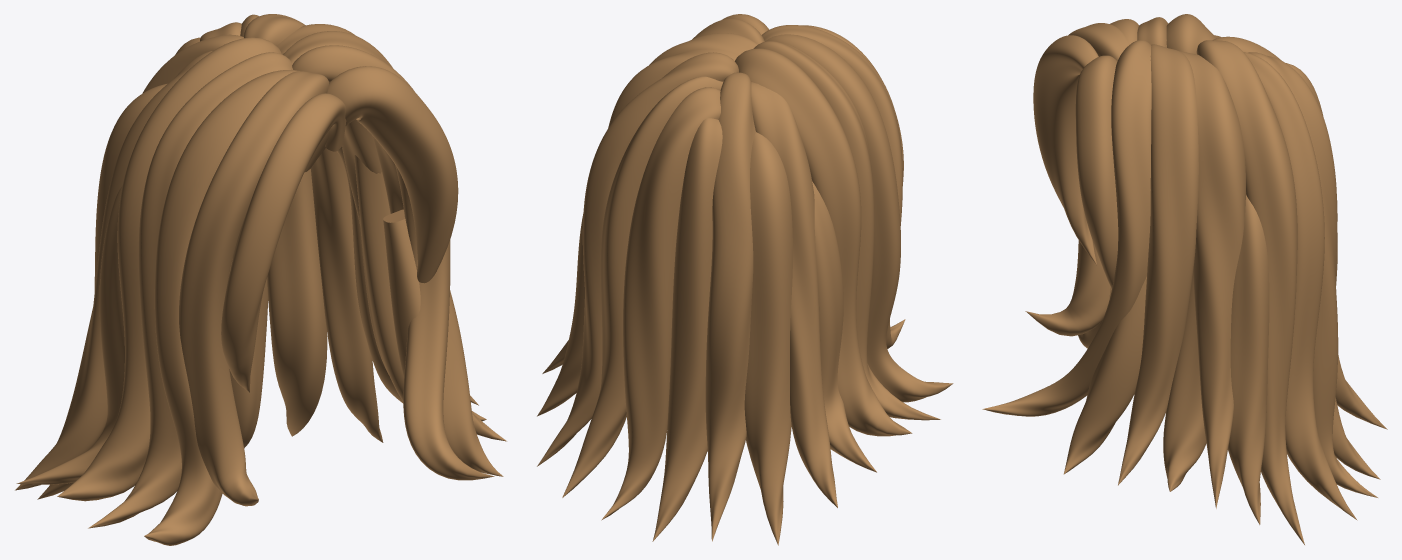
Rendered from hair2.fbx.
The picture shows the model from 3 angles, left to right: view 1: azimuth 30°, elevation 25°; view 2: azimuth 150°, elevation 25°; view 3: azimuth 270°, elevation 25°; orthographic projection. The views are drawn at different scales.
Visible parts, largest first — view 1: Head1_HairStrand.002, Head1_HairStrand.001, Head1_HairStrand.003, Head1_HairStrand.020, Head1_HairStrand.004, Head1_HairStrand.012, Head1_HairStrand.008, Head1_HairStrand.005, Head1_HairStrand.016, Head1_HairStrand.013, Head1_HairStrand.011, Head1_HairStrand.019 (+7 smaller); view 2: Head1_HairStrand.009, Head1_HairStrand.010, Head1_HairStrand.018, Head1_HairStrand.017, Head1_HairStrand.003, Head1_HairStrand.011, Head1_HairStrand.016, Head1_HairStrand.008, Head1_HairStrand.001, Head1_HairStrand.020, Head1_HairStrand.019, Head1_HairStrand.002 (+4 smaller); view 3: Head1_HairStrand.006, Head1_HairStrand.007, Head1_HairStrand.008, Head1_HairStrand.005, Head1_HairStrand.016, Head1_HairStrand.015, Head1_HairStrand.009, Head1_HairStrand.012, Head1_HairStrand.004, Head1_HairStrand.013, Head1_HairStrand.014, Head1_HairStrand.002 (+5 smaller).
Boxes of the visible parts, x1,y1,x2,y2 form: Head1_HairStrand.002: [179, 71, 329, 506]; Head1_HairStrand.001: [144, 69, 299, 545]; Head1_HairStrand.003: [57, 37, 281, 501]; Head1_HairStrand.020: [88, 52, 292, 528]; Head1_HairStrand.004: [304, 66, 458, 283]; Head1_HairStrand.012: [221, 93, 346, 392]; Head1_HairStrand.008: [244, 14, 383, 442]; Head1_HairStrand.005: [292, 45, 494, 480]; Head1_HairStrand.016: [240, 14, 327, 436]; Head1_HairStrand.013: [383, 209, 503, 476]; Head1_HairStrand.011: [15, 51, 212, 490]; Head1_HairStrand.019: [16, 186, 124, 484]; Head1_HairStrand.009: [601, 87, 720, 520]; Head1_HairStrand.010: [705, 72, 755, 541]; Head1_HairStrand.018: [744, 132, 792, 545]; Head1_HairStrand.017: [652, 118, 722, 541]; Head1_HairStrand.003: [735, 48, 912, 436]; Head1_HairStrand.011: [751, 82, 837, 507]; Head1_HairStrand.016: [562, 76, 723, 497]; Head1_HairStrand.008: [537, 52, 738, 466]; Head1_HairStrand.001: [765, 34, 953, 402]; Head1_HairStrand.020: [754, 41, 940, 420]; Head1_HairStrand.019: [812, 181, 876, 472]; Head1_HairStrand.002: [761, 25, 905, 348]; Head1_HairStrand.006: [1118, 44, 1198, 485]; Head1_HairStrand.007: [1179, 51, 1245, 508]; Head1_HairStrand.008: [1196, 40, 1304, 544]; Head1_HairStrand.005: [982, 40, 1151, 416]; Head1_HairStrand.016: [1244, 52, 1357, 520]; Head1_HairStrand.015: [1228, 195, 1269, 524]; Head1_HairStrand.009: [1248, 52, 1377, 497]; Head1_HairStrand.012: [1033, 35, 1098, 264]; Head1_HairStrand.004: [1075, 55, 1118, 288]; Head1_HairStrand.013: [1063, 276, 1146, 474]; Head1_HairStrand.014: [1163, 272, 1206, 491]; Head1_HairStrand.002: [1025, 23, 1129, 336].
Bounding box in the file's own units: 7592 × 8587 × 7021.
